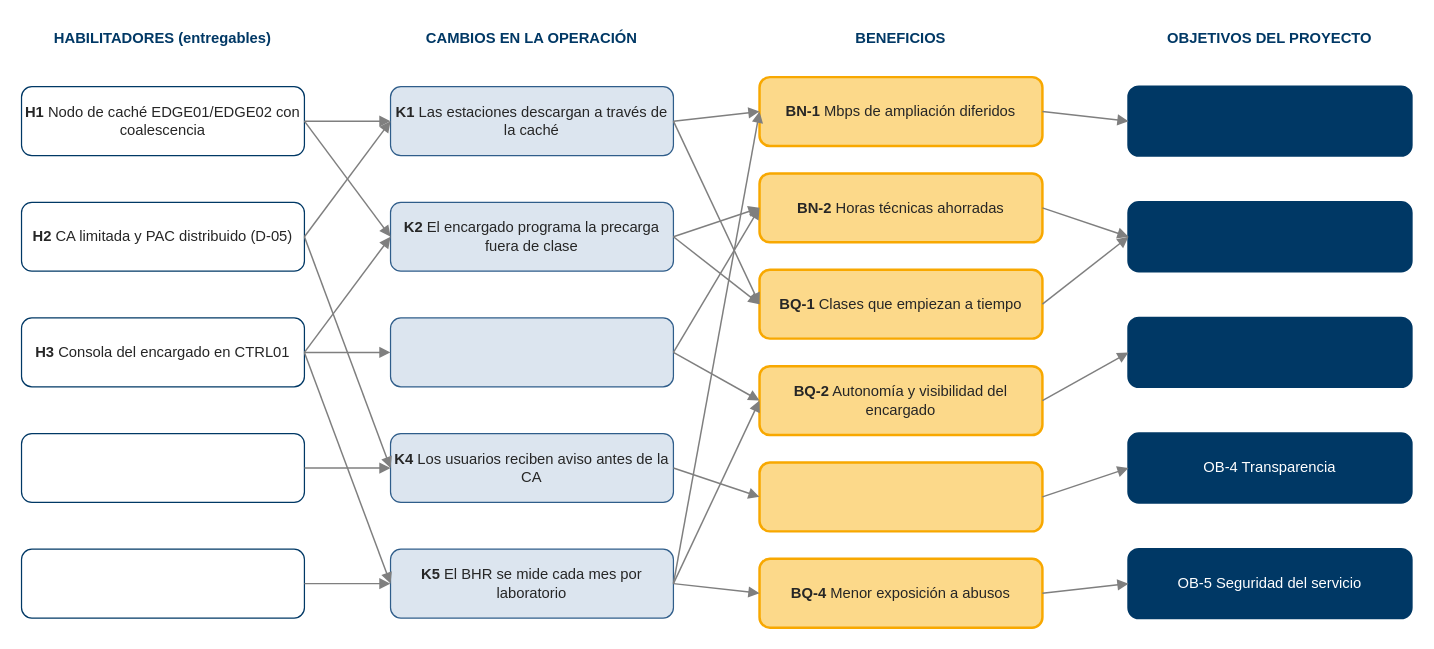
This 1434x649 diagram has some shape labels left out. Here are the shapes that lost their labels. From the top down, the centre of each, then its label:
At (1269,120): "OB-1 Ahorro de Internet".
At (1269,236): "OB-2 Ahorro de tiempo".
At (531,352): "K3 El encargado habilita fuentes sin pedirlo a la DTI".
At (1269,351): "OB-3 Autonomía del encargado".
At (162,467): "H4 Portal de transparencia PORTAL01".
At (900,496): "BQ-3 Confianza de los usuarios".
At (162,583): "H5 Métricas y detección (SIEM01)".
